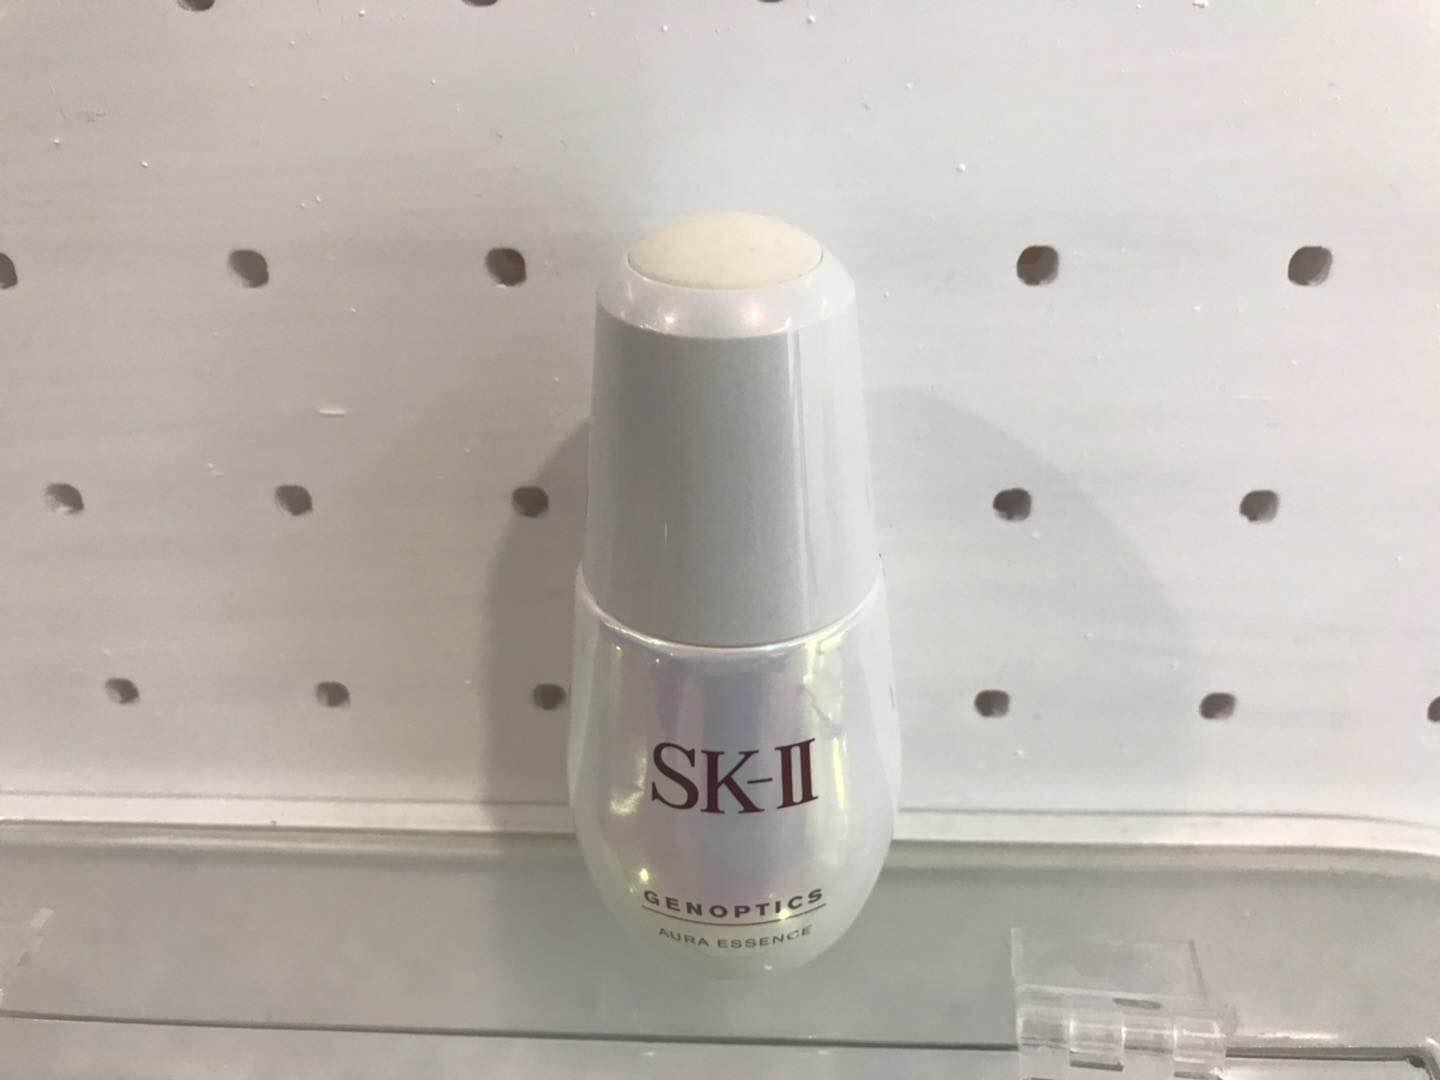sk2: (541, 196, 927, 1009)
